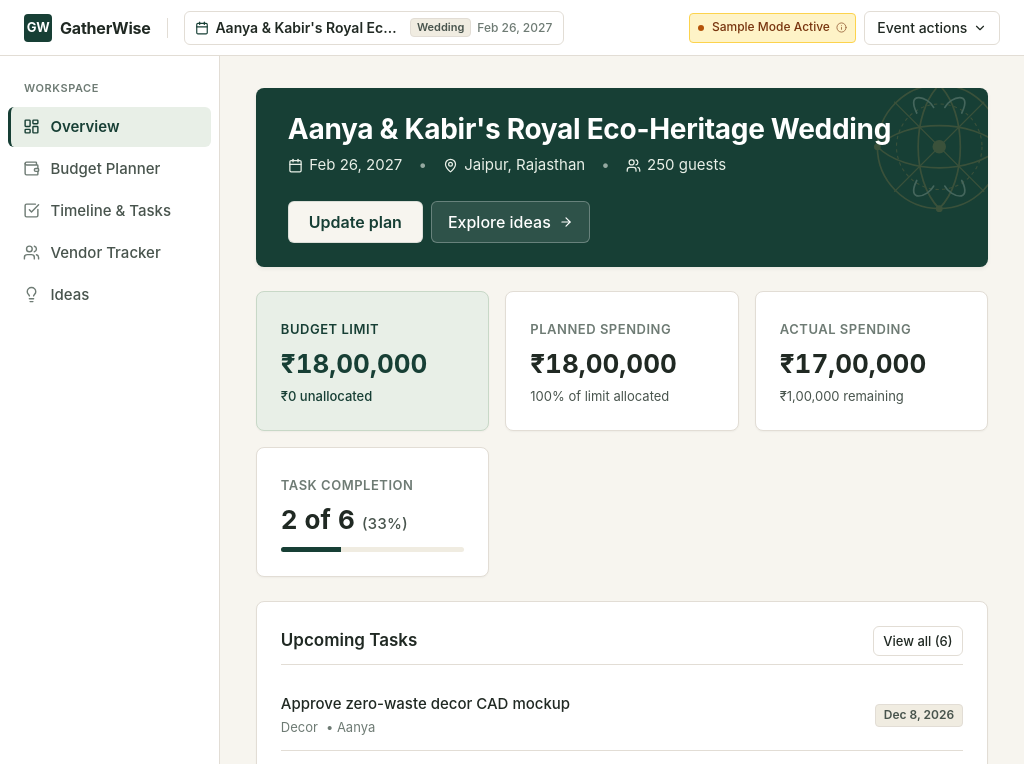
Test: GatherWise Integration & Component Workflows › switching sample events updates the workspace correctly
Open Event actions menu in header
Step 1. Click the button "Event actions" → (932, 28), box top-left (864, 10), bottom-right (1000, 44)
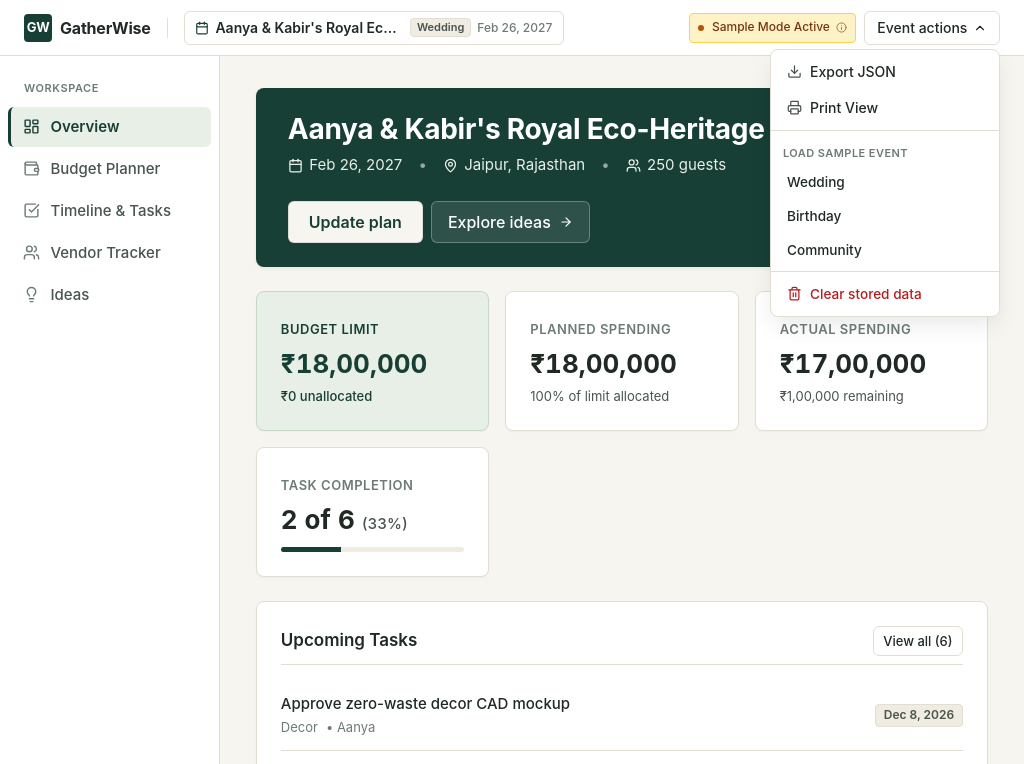
Click "Birthday" in the Event actions menu
Step 2. Click the button "Birthday" → (885, 216), box top-left (775, 199), bottom-right (995, 233)
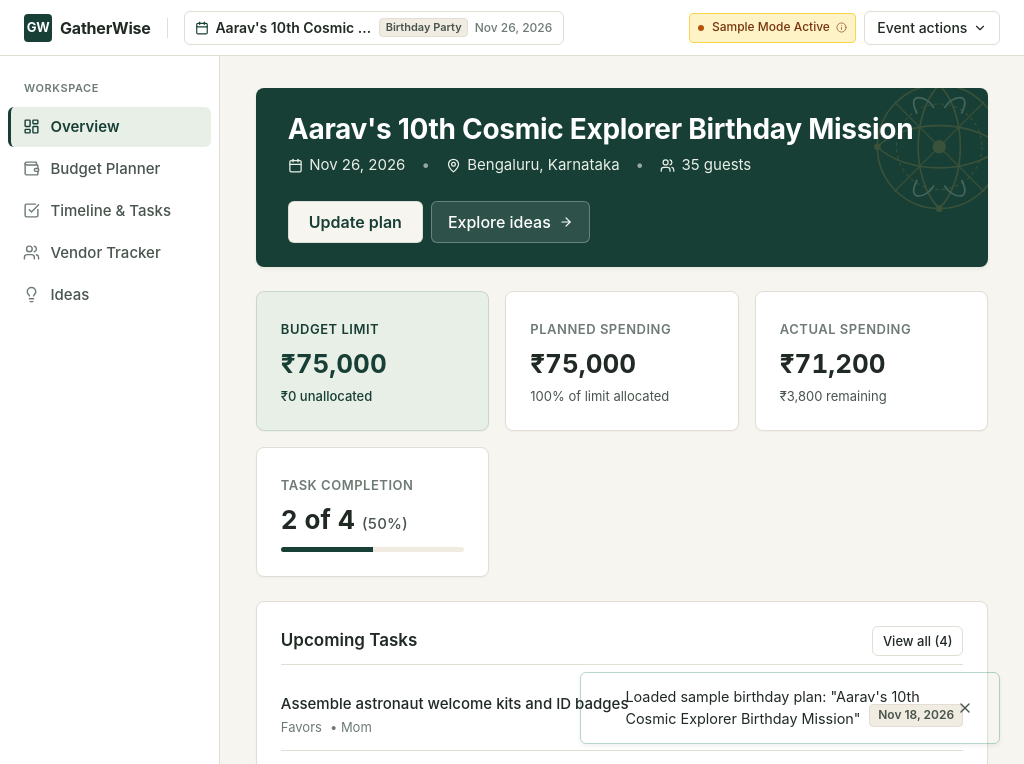
Expected: the text "Aarav's 10th Cosmic Explorer Birthday Mission" is shown, top-left (215, 19), bottom-right (373, 36)
Open Event actions menu again
Step 3. Click the button "Event actions" → (932, 28), box top-left (864, 10), bottom-right (1000, 44)
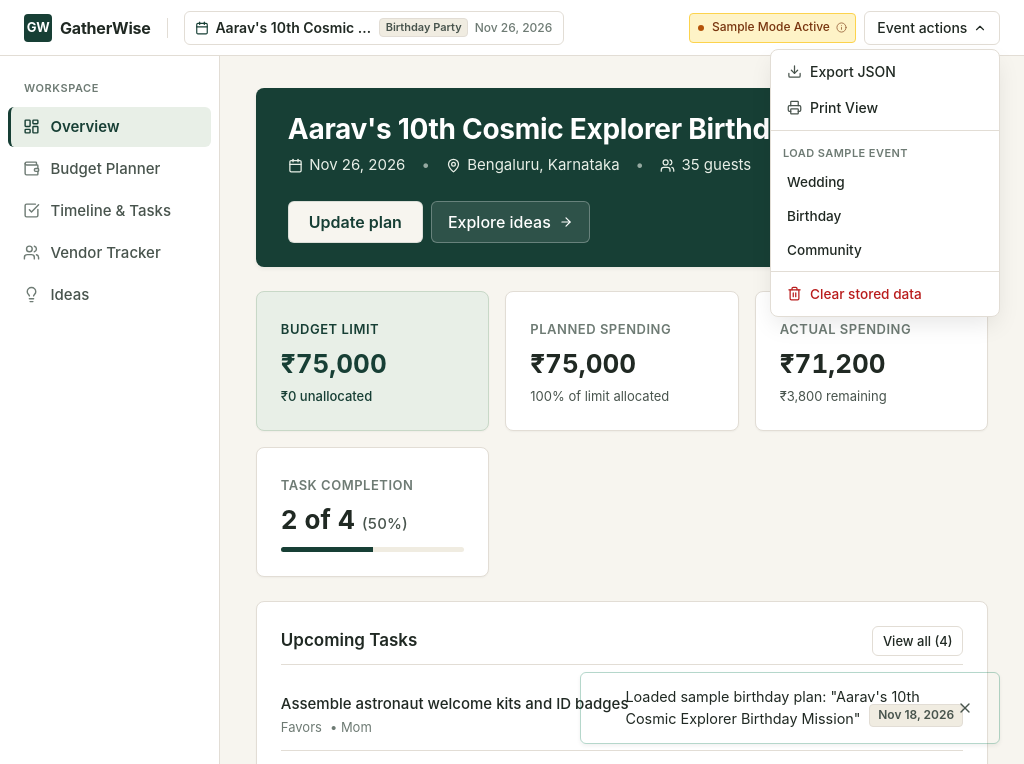
Click "Community" sample
Step 4. Click the button "Community" → (885, 250), box top-left (775, 233), bottom-right (995, 267)
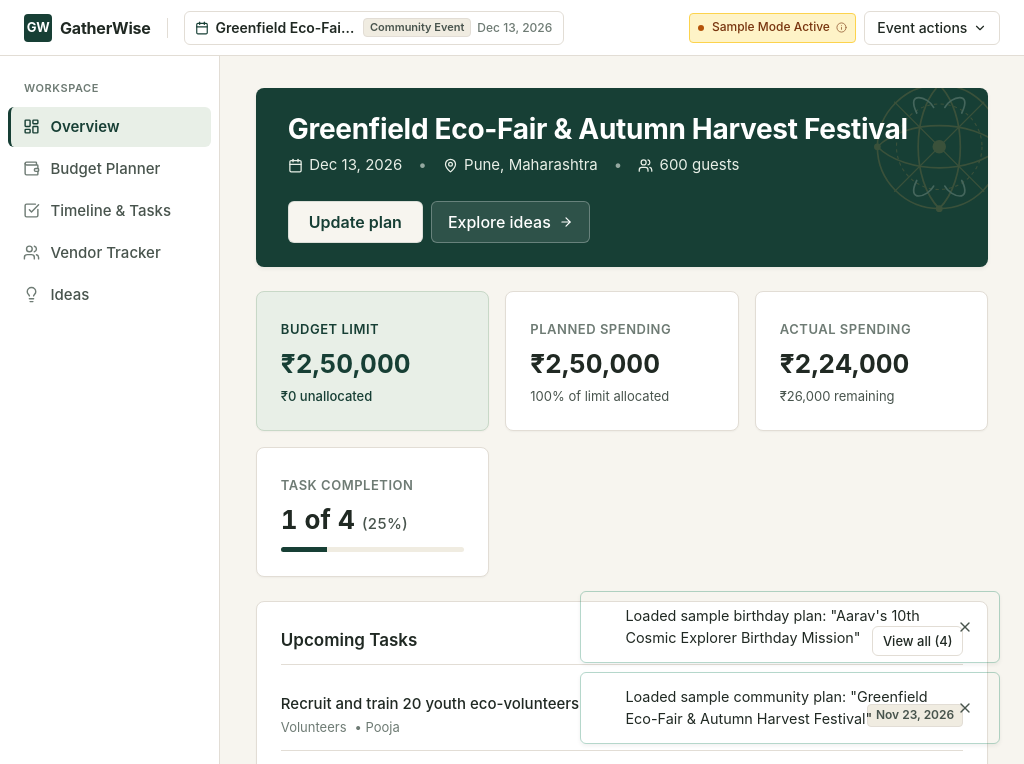
Expected: the text "Greenfield Eco-Fair & Autumn Harvest Festival" is shown, top-left (215, 19), bottom-right (357, 36)
